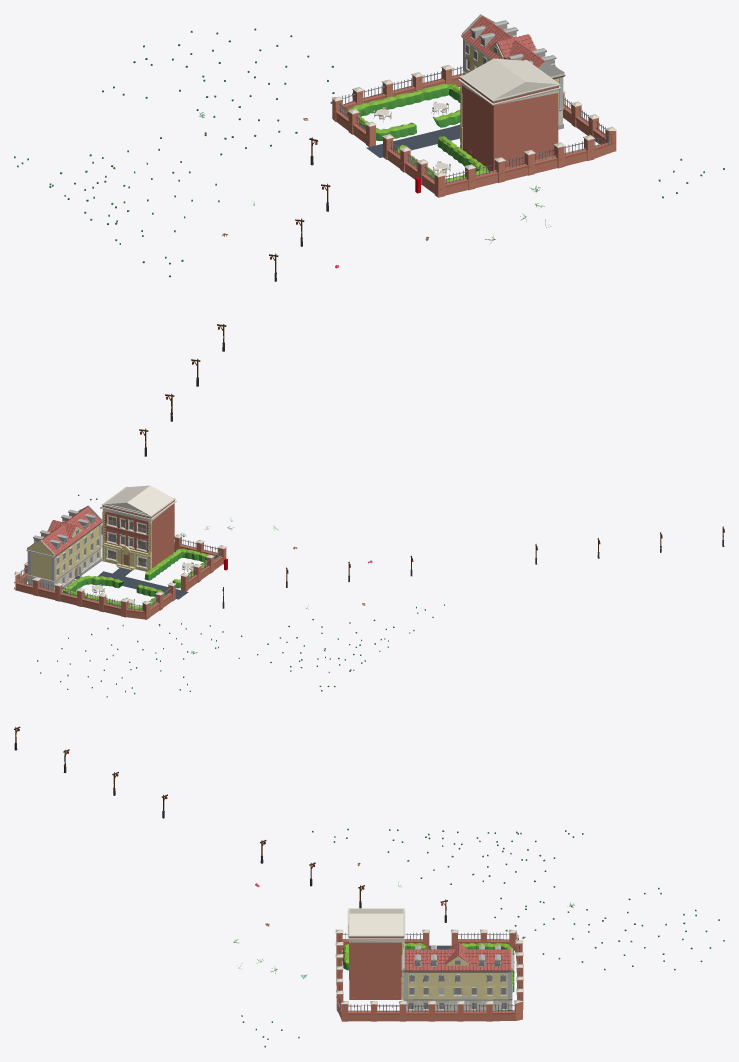
Rendered from chunk_2_2_lod0.glb.
3 renders of one model, top to bottom at view 1: azimuth 30°, elevation 25°; view 2: azimuth 150°, elevation 25°; view 3: azimuth 270°, elevation 25°, orthographic. The views are drawn at different scales.
Parts seen in each view (by area): view 1: Batched_Chunk_2_2; view 2: Batched_Chunk_2_2; view 3: Batched_Chunk_2_2.
Part boxes in pixels (<box>): Batched_Chunk_2_2: <box>14,14,724,456</box>; Batched_Chunk_2_2: <box>14,485,724,697</box>; Batched_Chunk_2_2: <box>14,726,724,1047</box>.
Bounding box in the file's own units: 111 × 12.65 × 111.
28 materials, 1 textured.
